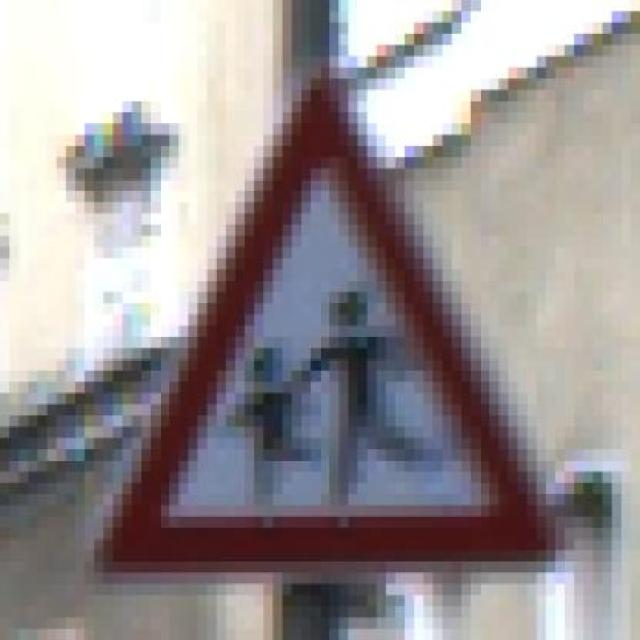Beware of children: (85, 56, 583, 573)
